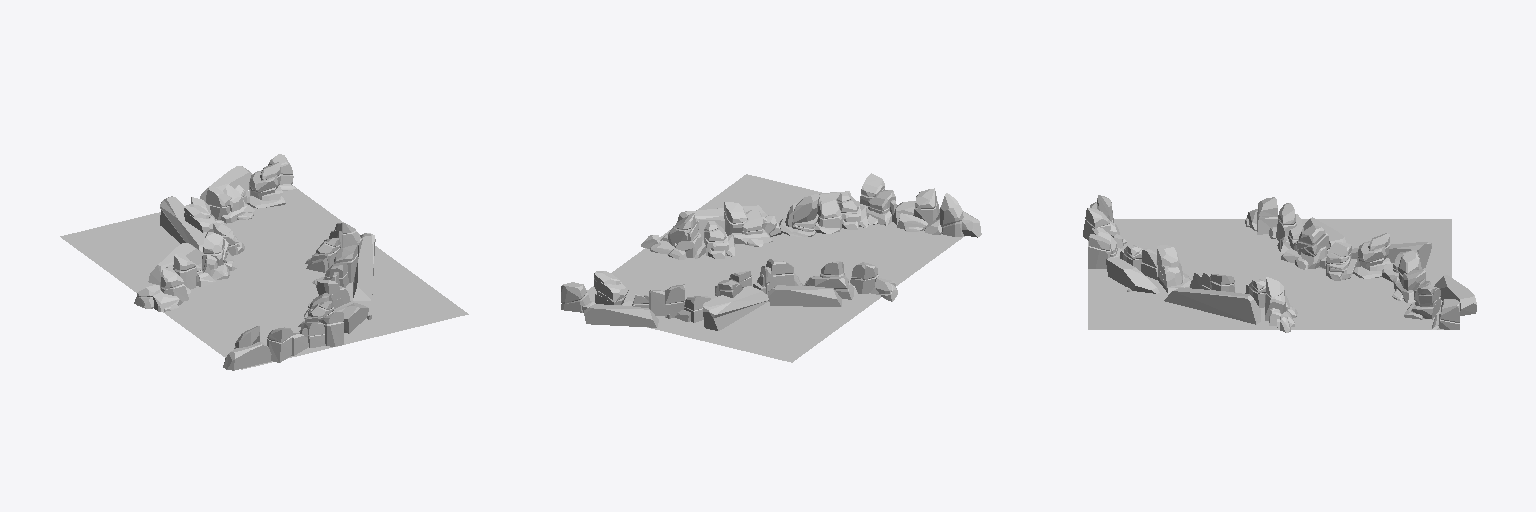
Rendered from RoadTile_Curve.obj.
3 renders of one model, left to right at view 1: azimuth 30°, elevation 25°; view 2: azimuth 150°, elevation 25°; view 3: azimuth 270°, elevation 25°, orthographic.
Visible parts, largest first — view 1: Ground.003_Plane.003, Cube.152, Cube.186, Cube.197, Cube.202, Cube.212, Cube.153, Cube.219_Cube.220, Cube.168, Cube.165, Cube.145, Cube.158 (+1 smaller); view 2: Ground.003_Plane.003, Cube.152, Cube.153, Cube.212, Cube.199, Cube.155, Cube.186, Cube.202, Cube.168, Cube.189, Cube.163, Cube.158 (+3 smaller); view 3: Ground.003_Plane.003, Cube.186, Cube.187, Cube.153, Cube.219_Cube.220, Cube.152, Cube.168, Cube.192, Cube.155.
Part boxes in pixels (bbox=[...]): Ground.003_Plane.003: bbox=[60, 186, 468, 369]; Cube.152: bbox=[160, 196, 206, 251]; Cube.186: bbox=[353, 235, 374, 300]; Cube.197: bbox=[223, 342, 271, 370]; Cube.202: bbox=[267, 327, 293, 362]; Cube.212: bbox=[148, 243, 202, 284]; Cube.153: bbox=[200, 166, 252, 201]; Cube.219_Cube.220: bbox=[319, 312, 343, 346]; Cube.168: bbox=[161, 268, 188, 301]; Cube.165: bbox=[173, 253, 196, 289]; Cube.145: bbox=[206, 187, 231, 219]; Cube.158: bbox=[202, 232, 224, 270]; Ground.003_Plane.003: bbox=[587, 174, 964, 362]; Cube.152: bbox=[703, 286, 768, 330]; Cube.153: bbox=[584, 304, 658, 327]; Cube.212: bbox=[768, 285, 841, 306]; Cube.199: bbox=[940, 193, 963, 236]; Cube.155: bbox=[561, 282, 590, 312]; Cube.186: bbox=[677, 205, 767, 240]; Cube.202: bbox=[913, 188, 939, 223]; Cube.168: bbox=[850, 262, 878, 293]; Cube.189: bbox=[817, 196, 841, 229]; Cube.163: bbox=[806, 275, 853, 299]; Cube.158: bbox=[766, 259, 794, 290]; Ground.003_Plane.003: bbox=[1088, 219, 1451, 329]; Cube.186: bbox=[1164, 288, 1260, 324]; Cube.187: bbox=[1106, 257, 1159, 293]; Cube.153: bbox=[1434, 275, 1476, 315]; Cube.219_Cube.220: bbox=[1088, 234, 1111, 268]; Cube.152: bbox=[1351, 242, 1431, 268]; Cube.168: bbox=[1257, 197, 1277, 234]; Cube.192: bbox=[1265, 277, 1285, 320]; Cube.155: bbox=[1438, 299, 1459, 329].
Bounding box in the file's own units: 156 × 22.24 × 217.